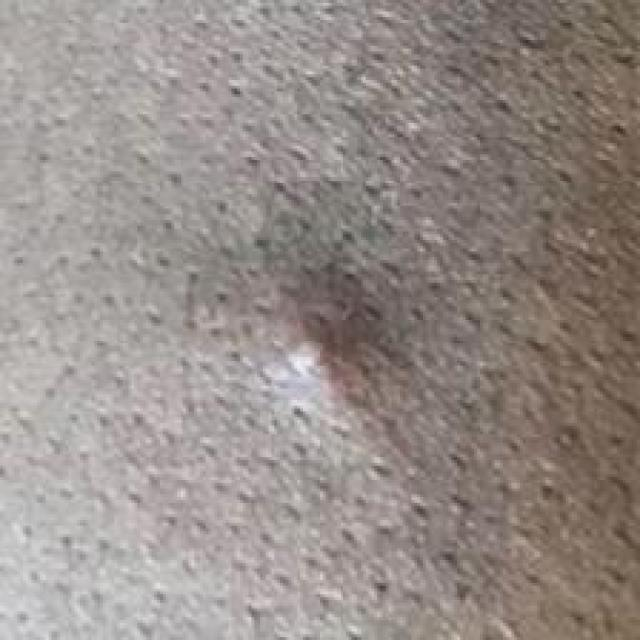monkeypox: (129, 72, 602, 640)
